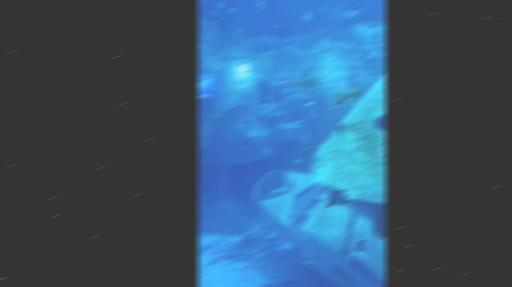Fish: (321, 6, 362, 24), (328, 87, 362, 108), (325, 187, 348, 207), (297, 72, 319, 88), (375, 115, 385, 131), (301, 143, 317, 152), (199, 79, 212, 90), (209, 113, 222, 123), (336, 122, 344, 135), (355, 240, 364, 251), (302, 11, 312, 20), (305, 255, 315, 264), (303, 101, 314, 108), (217, 2, 224, 8), (258, 1, 264, 7), (211, 10, 218, 15), (294, 159, 302, 163), (228, 8, 235, 12), (298, 118, 303, 123), (340, 3, 344, 9), (235, 29, 239, 34), (199, 0, 204, 3)
